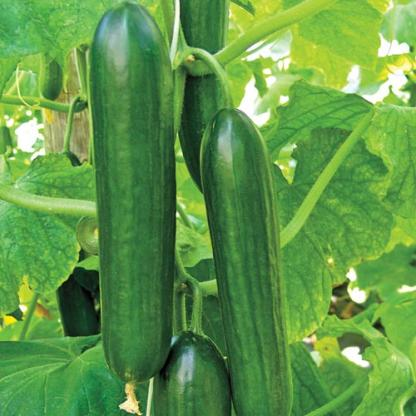--: (196, 99, 309, 416), (89, 0, 178, 389)
